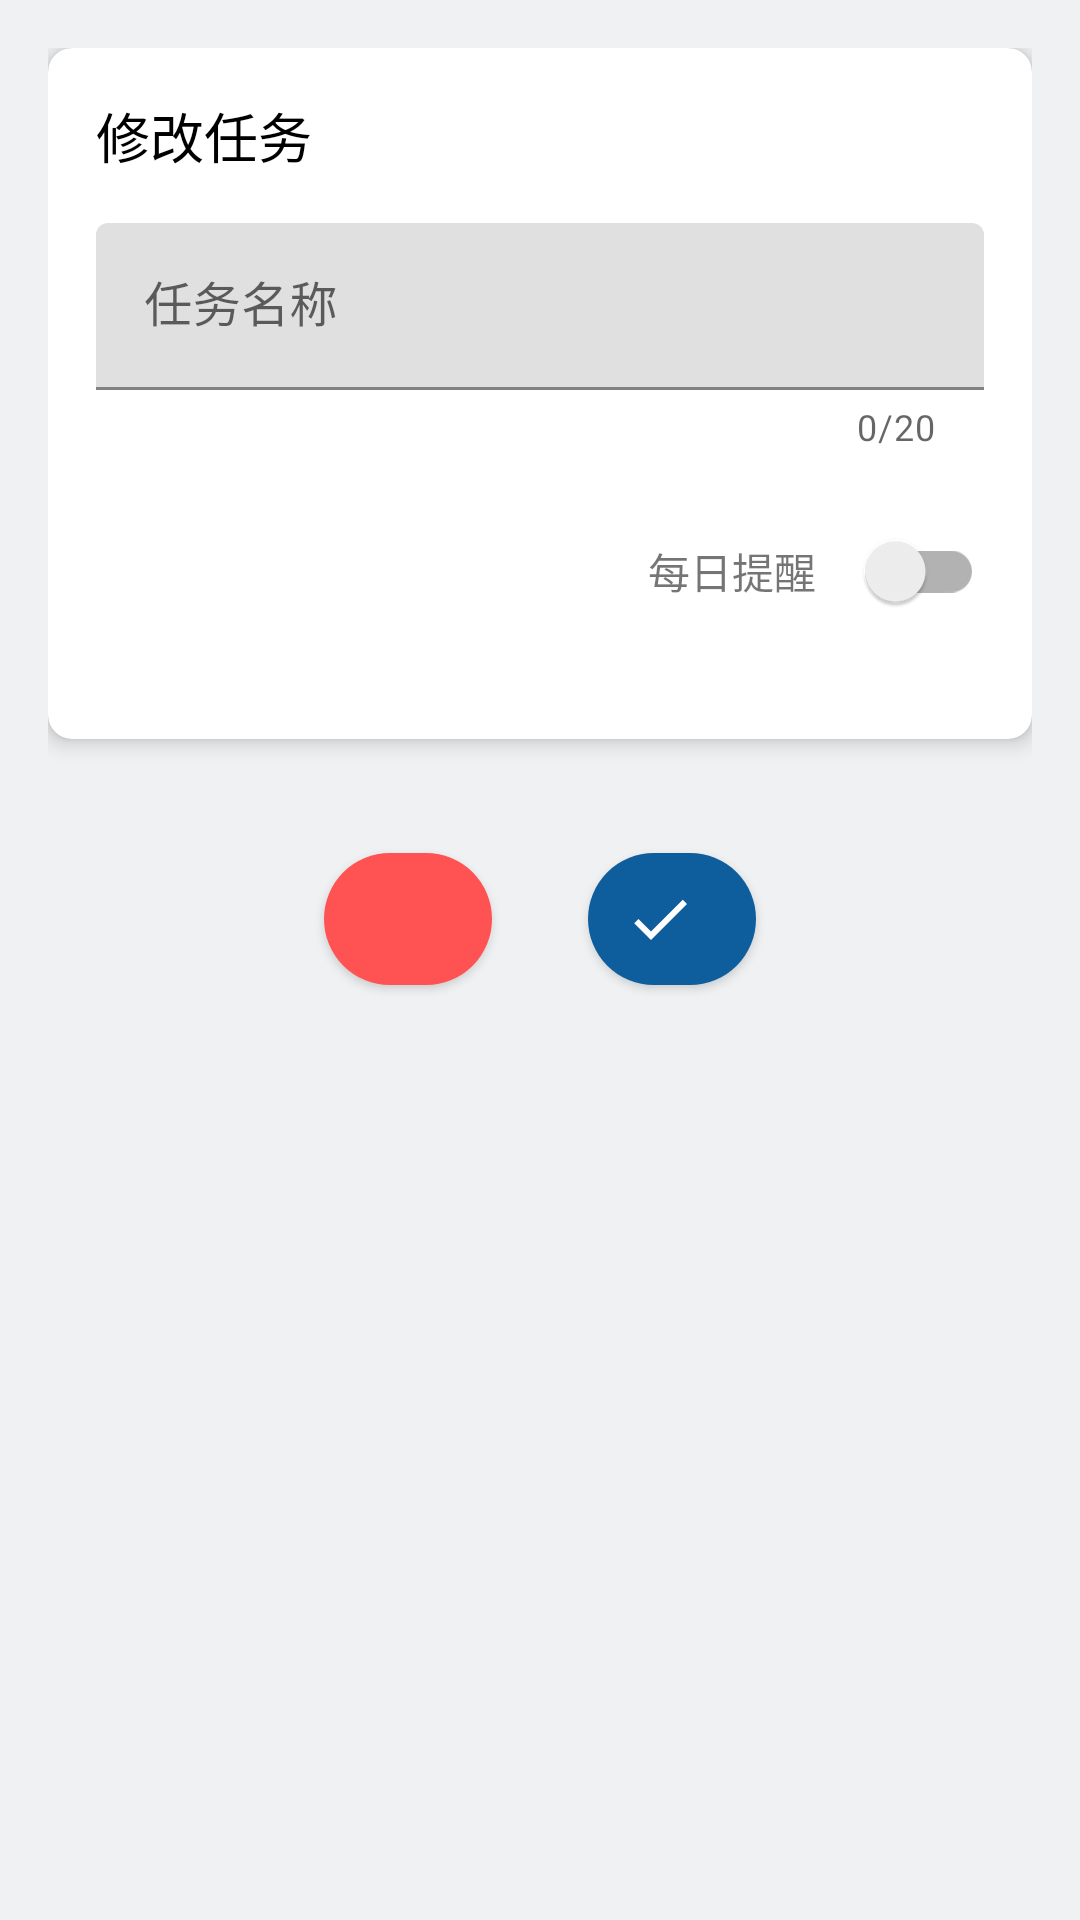

Icon bounding boxes for this 1080w x 1920h phone screenshot, format rect(x1, y1, x2, y2):
check: rect(588, 853, 756, 987)
